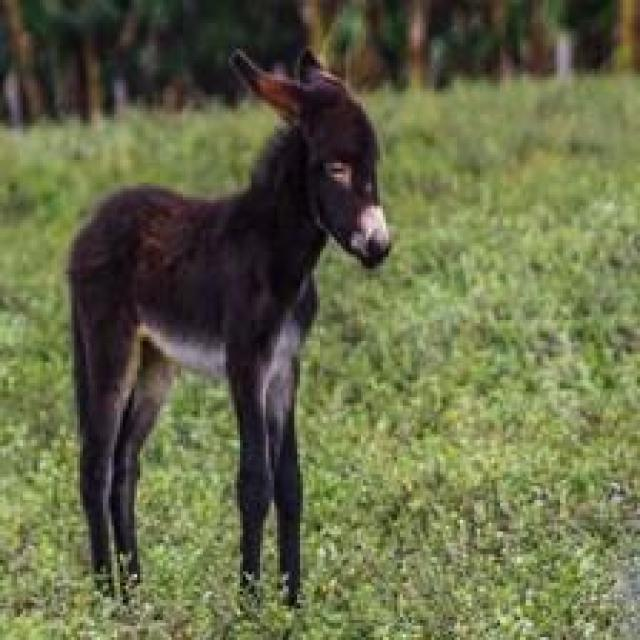Donkey: (63, 46, 391, 611)
